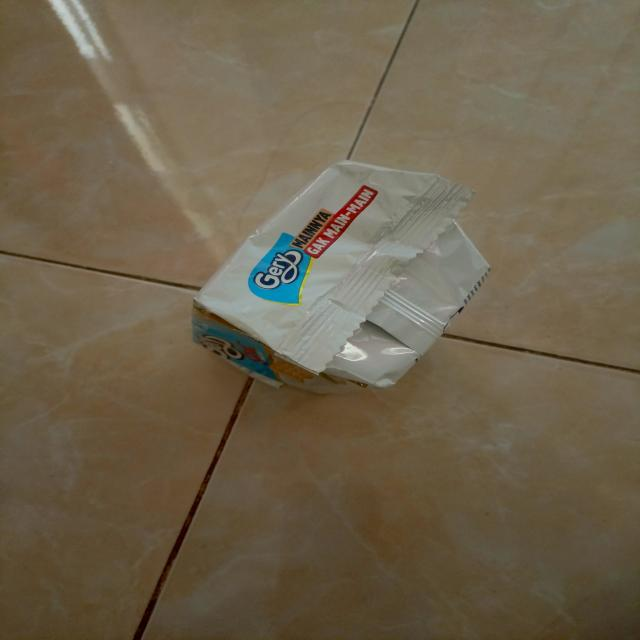gery-salut-coconut: (192, 158, 492, 394)
